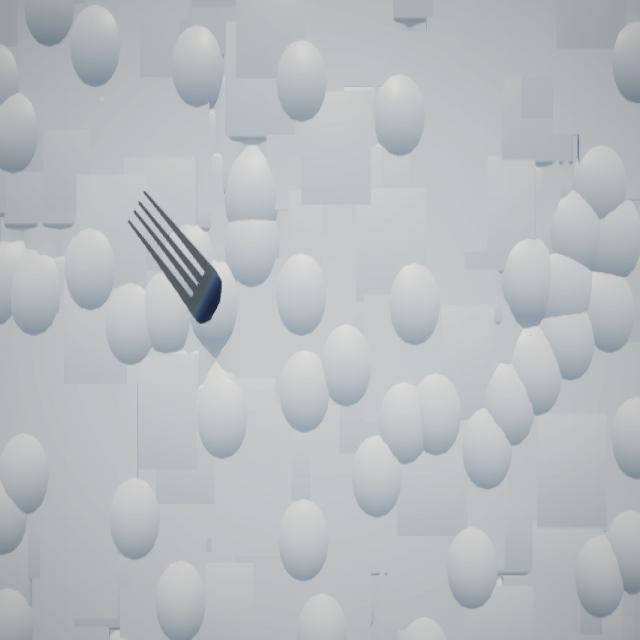top_folk: (129, 191, 223, 325)
